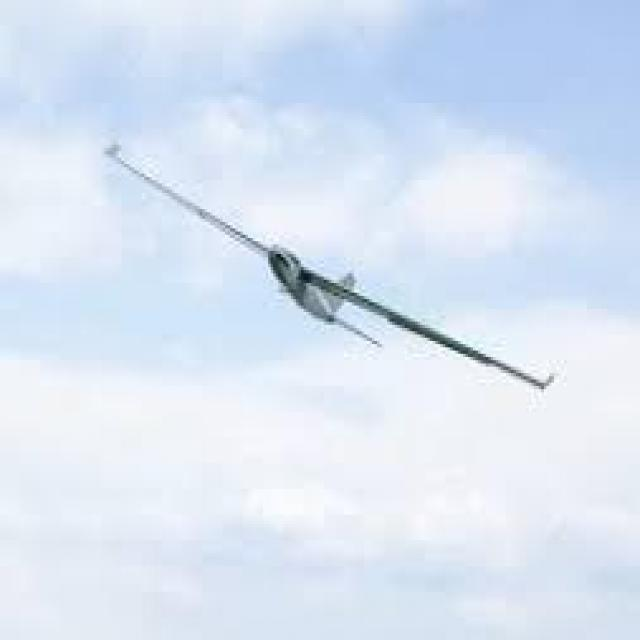iha: (88, 131, 555, 386)
